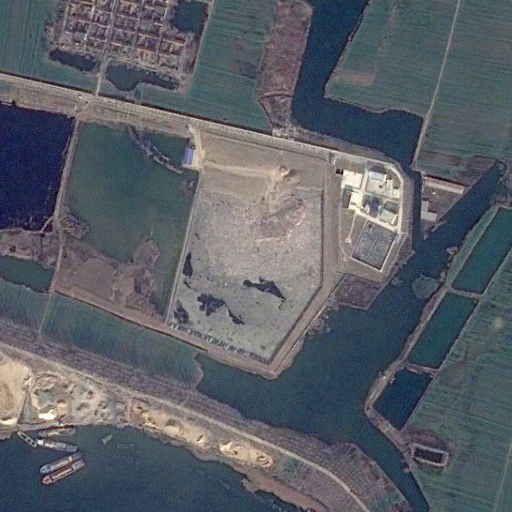lf: (168, 131, 324, 380)
